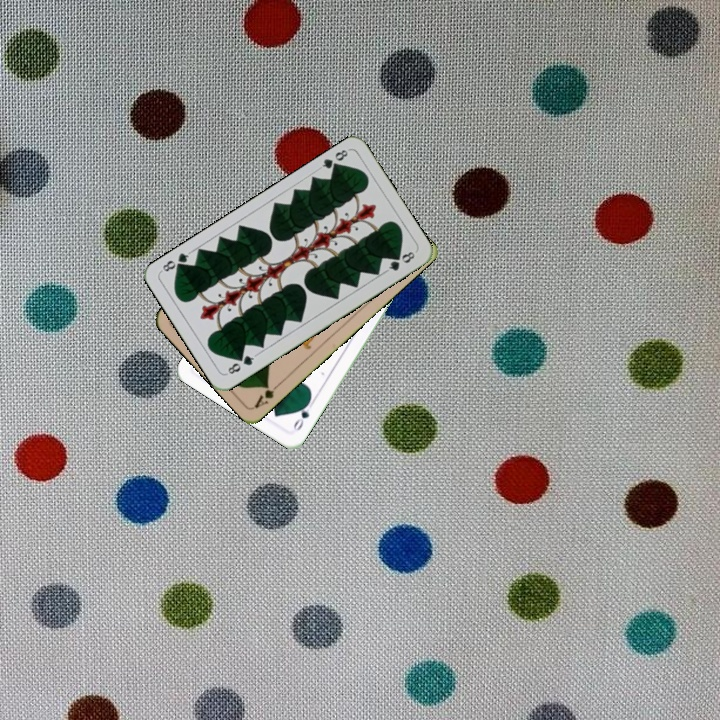G8: (315, 145, 352, 174), (222, 350, 259, 377)
GA: (251, 378, 284, 411)
GO: (289, 396, 316, 433)
